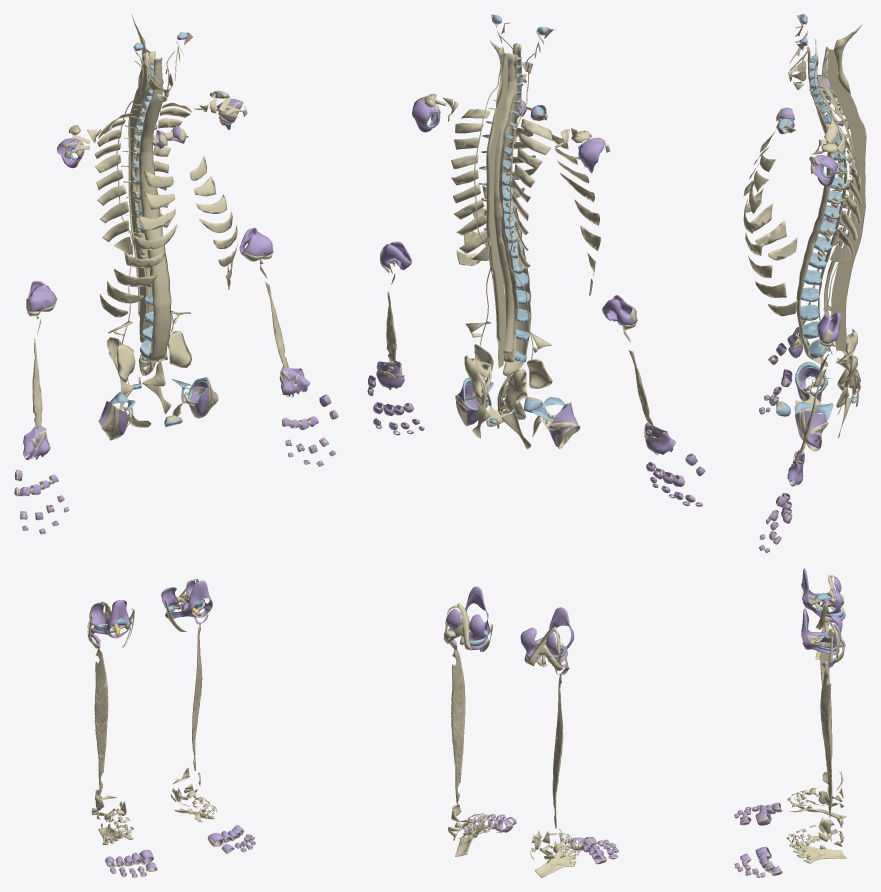
Rendered from joints.glb.
3 renders of one model, left to right at view 1: azimuth 30°, elevation 25°; view 2: azimuth 150°, elevation 25°; view 3: azimuth 270°, elevation 25°, orthographic. The views are drawn at different scales.
Parts seen in each view (by area): view 1: Anterior longitudinal ligament.001, External intercostal membrane.r.001, Internal intercostal membrane.r.001, External intercostal membrane.l.001, Interosseous membrane of leg.r.001, Interspinous ligaments.001, Articular capsule of knee joint.l.001, Internal intercostal membrane.l.001, Articular capsule of knee joint.r.001, Articular capsule of elbow joint.l.001, Interosseous membrane of leg.l.001, Articular capsule of elbow joint.r.001 (+2 smaller); view 2: Internal intercostal membrane.l.001, Ligamenta flava.001, Interspinous ligaments.001, Internal intercostal membrane.r.001, Interosseous membrane of leg.l.001, Anterior longitudinal ligament.001, External intercostal membrane.r.001, Posterior longitudinal ligament.001, Articular capsule of knee joint.l.001, Supraspinous ligament.001, Articular capsule of knee joint.r.001, Posterior sacro-iliac ligament.r.001 (+4 smaller); view 3: Interspinous ligaments.001, External intercostal membrane.l.001, Internal intercostal membrane.l.001, Anterior longitudinal ligament.001, External intercostal membrane.r.001, Interosseous membrane of leg.l.001, Articular capsule of knee joint.l.001, Articular capsule of knee joint.r.001, Ligamenta flava.001, Posterior longitudinal ligament.001, Long plantar ligament.l.001, Articular capsule of elbow joint.l.001 (+15 smaller).
Boxes of the visible parts, x1,y1,x2,y2 form: Anterior longitudinal ligament.001: [138, 57, 171, 363]; External intercostal membrane.r.001: [99, 170, 177, 317]; Internal intercostal membrane.r.001: [94, 113, 133, 254]; External intercostal membrane.l.001: [190, 156, 238, 289]; Interosseous membrane of leg.r.001: [94, 648, 108, 794]; Interspinous ligaments.001: [130, 50, 149, 342]; Articular capsule of knee joint.l.001: [161, 580, 212, 618]; Internal intercostal membrane.l.001: [153, 102, 191, 235]; Articular capsule of knee joint.r.001: [90, 600, 131, 638]; Articular capsule of elbow joint.l.001: [239, 227, 272, 261]; Interosseous membrane of leg.l.001: [192, 622, 202, 770]; Articular capsule of elbow joint.r.001: [28, 280, 56, 311]; Internal intercostal membrane.l.001: [451, 109, 490, 260]; Ligamenta flava.001: [494, 53, 515, 353]; Interspinous ligaments.001: [488, 53, 508, 368]; Internal intercostal membrane.r.001: [512, 119, 552, 271]; Interosseous membrane of leg.l.001: [451, 649, 465, 804]; Anterior longitudinal ligament.001: [502, 43, 531, 376]; External intercostal membrane.r.001: [551, 134, 600, 295]; Posterior longitudinal ligament.001: [499, 53, 518, 362]; Articular capsule of knee joint.l.001: [446, 586, 489, 649]; Supraspinous ligament.001: [486, 108, 500, 343]; Articular capsule of knee joint.r.001: [520, 607, 574, 662]; Posterior sacro-iliac ligament.r.001: [497, 368, 527, 415]; Interspinous ligaments.001: [826, 49, 865, 350]; External intercostal membrane.l.001: [743, 154, 797, 316]; Internal intercostal membrane.l.001: [824, 116, 861, 262]; Anterior longitudinal ligament.001: [796, 46, 833, 366]; External intercostal membrane.r.001: [743, 129, 797, 260]; Interosseous membrane of leg.l.001: [820, 668, 832, 817]; Articular capsule of knee joint.l.001: [801, 608, 843, 655]; Articular capsule of knee joint.r.001: [801, 568, 844, 622]; Ligamenta flava.001: [822, 47, 854, 341]; Posterior longitudinal ligament.001: [816, 53, 847, 351]; Long plantar ligament.l.001: [789, 843, 846, 864]; Articular capsule of elbow joint.l.001: [817, 312, 841, 343].
Bounding box in the file's own units: 0.6613 × 1.58 × 0.2309.
